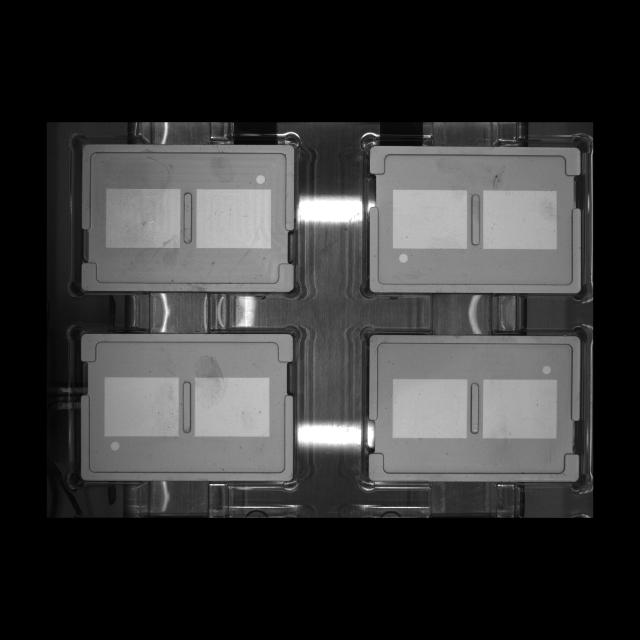product: (67, 323, 304, 492), (360, 130, 591, 303), (69, 132, 304, 302), (358, 324, 589, 494)
